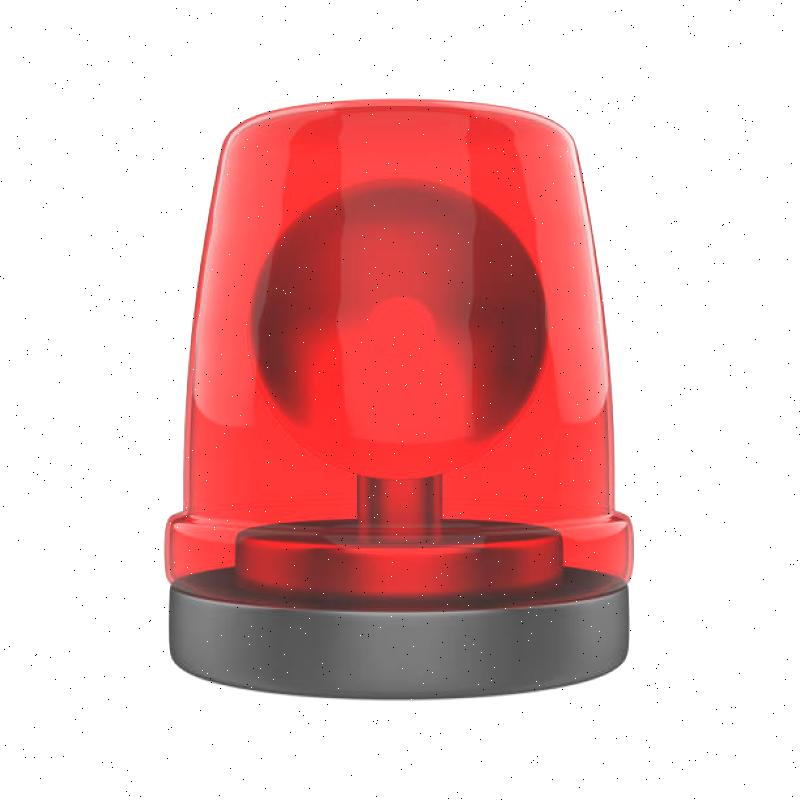AmbulanceSiren: (163, 58, 659, 711)
